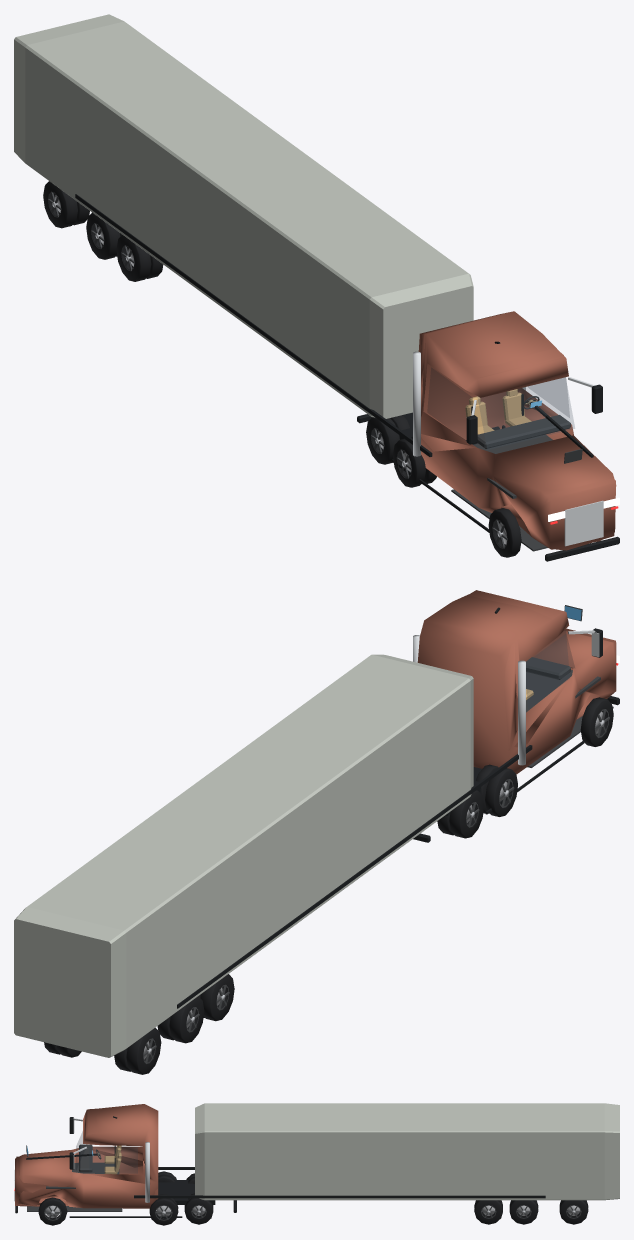
File: fleet-us22.glb
3 views of the same model, one above another, from view 1: azimuth 30°, elevation 25°; view 2: azimuth 150°, elevation 25°; view 3: azimuth 270°, elevation 25° (orthographic). The views are drawn at different scales.
Visible parts, largest first — view 1: TrailerShell, Body, Surface_CarRoot_Glass, Interior_CarRoot_InteriorDark, TrailerRail, NoseGrille, Surface_CarRoot_BlackTrim, Surface_WheelRear2R_Tyre, WheelFrontR_Tyre, Interior_CarRoot_InteriorLeather, Surface_WheelRearR_Tyre, TrailerWheelExtra-10_Tyre (+3 smaller); view 2: TrailerShell, Body, Surface_CarRoot_Glass, Interior_CarRoot_InteriorDark, TrailerRail, Surface_WheelRearR_Tyre, Surface_WheelRear2R_Tyre, WheelFrontR_Tyre, TrailerWheel-1880_Tyre, TrailerWheel-11010_Tyre, TrailerWheelExtra-10_Tyre, Exhaust (+1 smaller); view 3: TrailerShell, Body, TrailerRail.001, Surface_CarRoot_Glass, Interior_CarRoot_InteriorDark, Surface_CarRoot_BlackTrim, Surface_WheelRear2L_Tyre, Surface_WheelRearL_Tyre, TrailerWheel11010_Tyre, TrailerWheel1880_Tyre, TrailerWheelExtra10_Tyre, WheelFrontL_Tyre (+3 smaller).
Part boxes in pixels (x1,y1,x2,y2): TrailerShell: (14, 14, 473, 418); Body: (418, 311, 616, 550); Surface_CarRoot_Glass: (427, 368, 574, 449); Interior_CarRoot_InteriorDark: (451, 415, 582, 551); TrailerRail: (75, 194, 432, 456); NoseGrille: (564, 500, 603, 546); Surface_CarRoot_BlackTrim: (357, 341, 619, 561); Surface_WheelRear2R_Tyre: (366, 415, 410, 464); WheelFrontR_Tyre: (488, 508, 521, 557); Interior_CarRoot_InteriorLeather: (465, 389, 524, 434); Surface_WheelRearR_Tyre: (393, 436, 436, 487); TrailerWheelExtra-10_Tyre: (116, 235, 151, 281); TrailerShell: (14, 654, 473, 1057); Body: (417, 590, 616, 774); Surface_CarRoot_Glass: (526, 630, 574, 708); Interior_CarRoot_InteriorDark: (526, 605, 613, 767); TrailerRail: (177, 745, 532, 1008); Surface_WheelRearR_Tyre: (476, 764, 517, 816); Surface_WheelRear2R_Tyre: (437, 790, 484, 838); WheelFrontR_Tyre: (580, 697, 613, 746); TrailerWheel-1880_Tyre: (169, 996, 204, 1043); TrailerWheel-11010_Tyre: (126, 1027, 161, 1074); TrailerWheelExtra-10_Tyre: (200, 974, 234, 1021); Exhaust: (518, 660, 525, 765); TrailerShell: (195, 1103, 619, 1200); Body: (15, 1104, 158, 1208); TrailerRail.001: (134, 1195, 545, 1198); Surface_CarRoot_Glass: (76, 1132, 137, 1173); Interior_CarRoot_InteriorDark: (26, 1144, 122, 1211); Surface_CarRoot_BlackTrim: (15, 1116, 236, 1217); Surface_WheelRear2L_Tyre: (184, 1193, 213, 1224); Surface_WheelRearL_Tyre: (149, 1194, 178, 1225); TrailerWheel11010_Tyre: (559, 1200, 588, 1224); TrailerWheel1880_Tyre: (509, 1200, 538, 1224); TrailerWheelExtra10_Tyre: (474, 1200, 502, 1224); WheelFrontL_Tyre: (38, 1197, 67, 1225).
Size of the model in its own units: 3.32 by 3.87 by 22.38.
